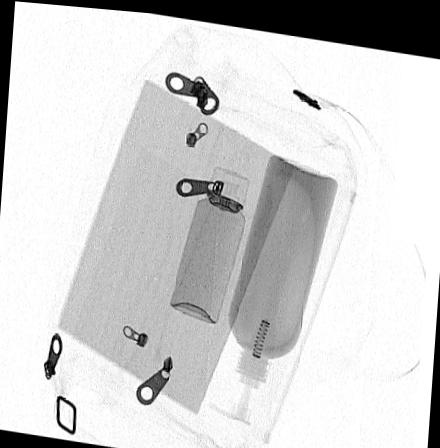Sprayer: (169, 161, 249, 319)
